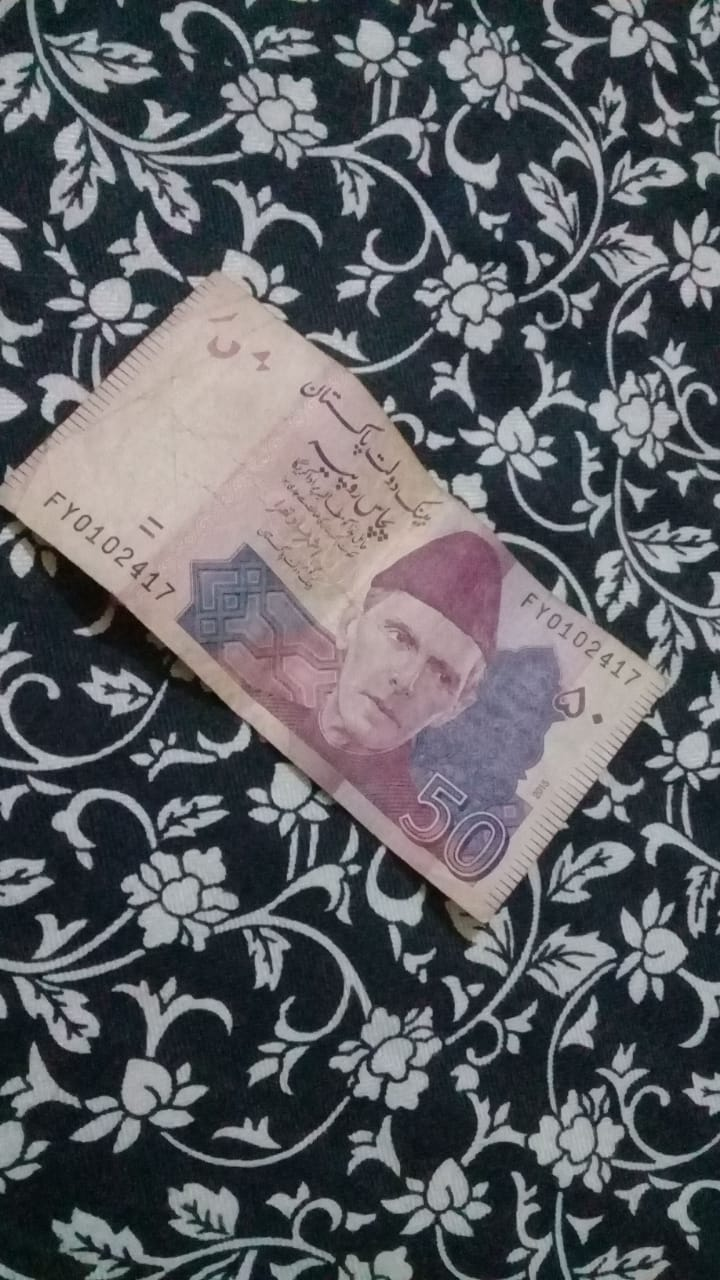50 rupee: (1, 240, 681, 923)
